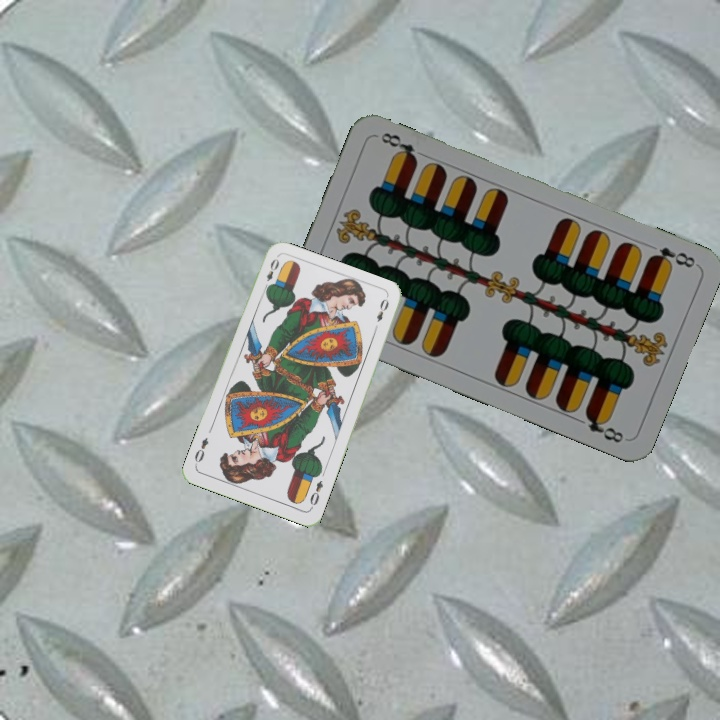E8: (645, 243, 698, 271)
EO: (259, 254, 282, 293), (306, 476, 326, 511)
